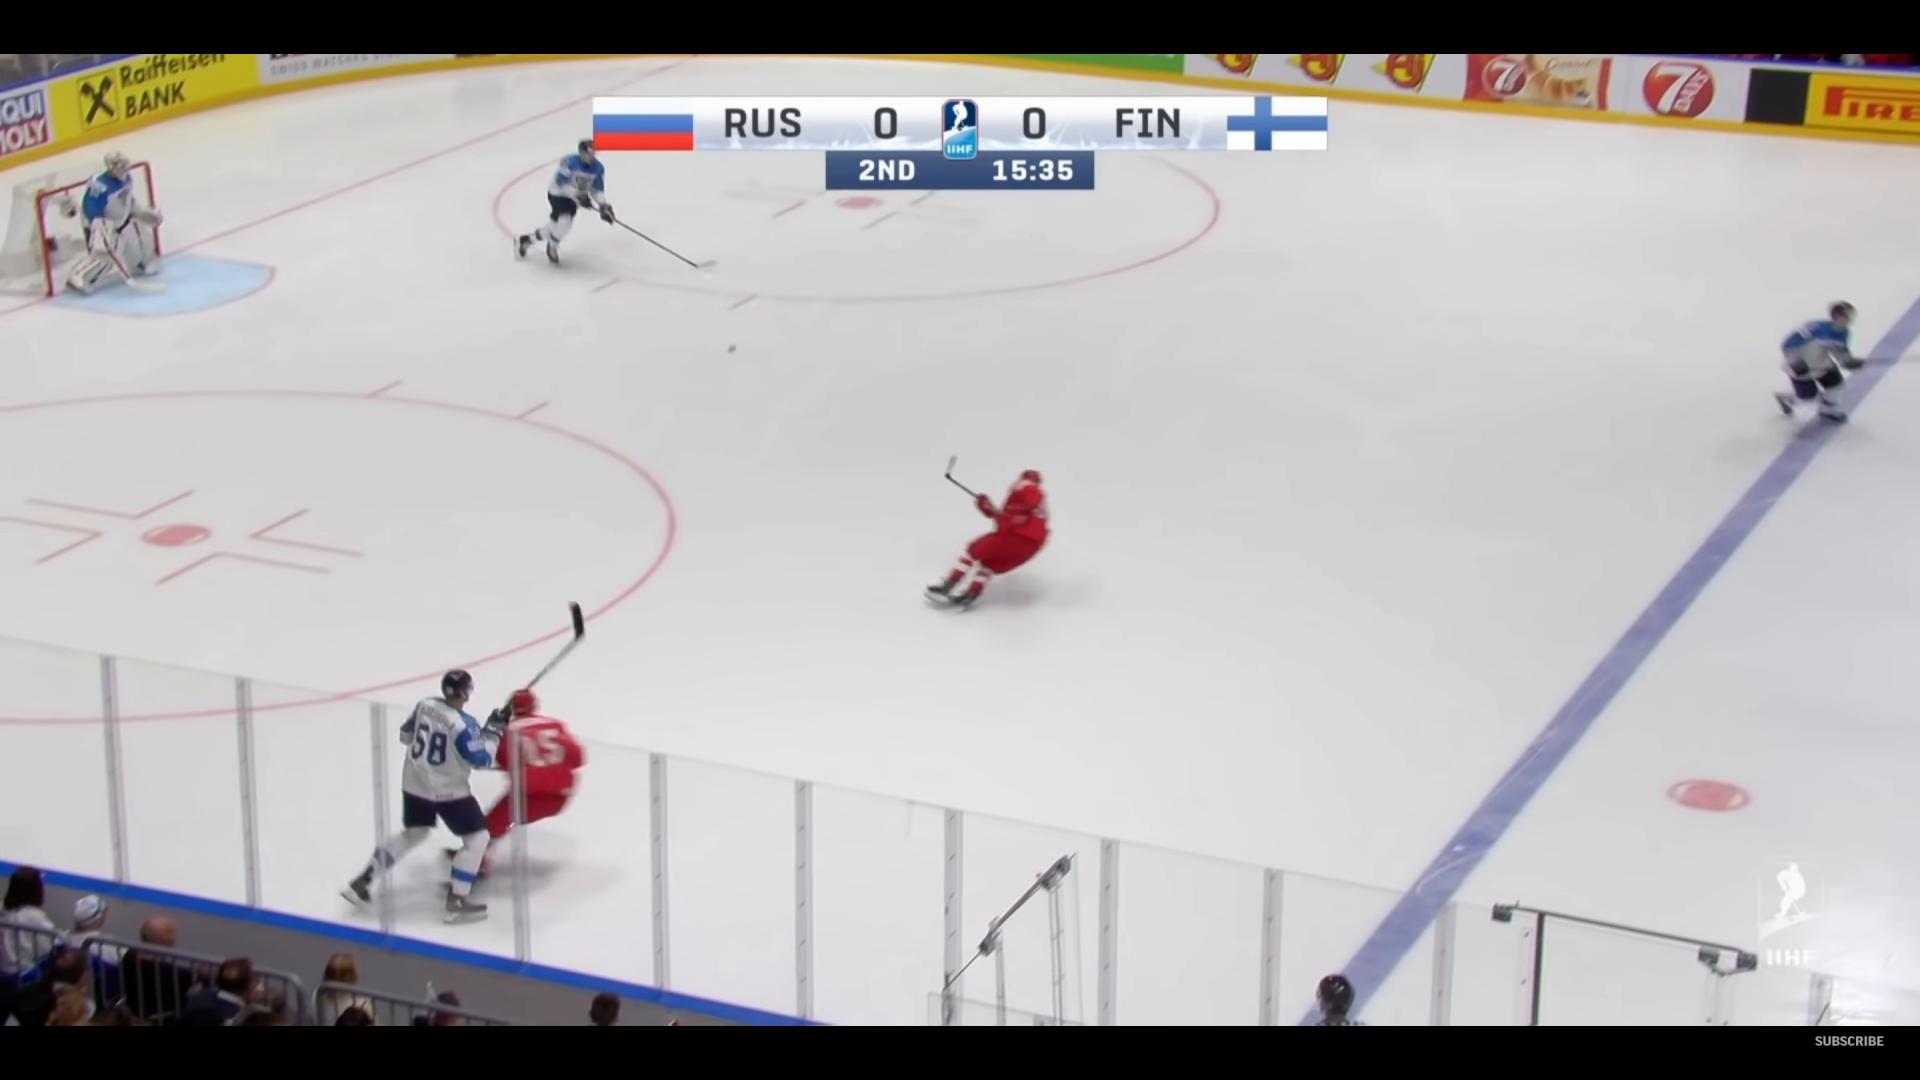puck: (727, 344, 736, 352)
